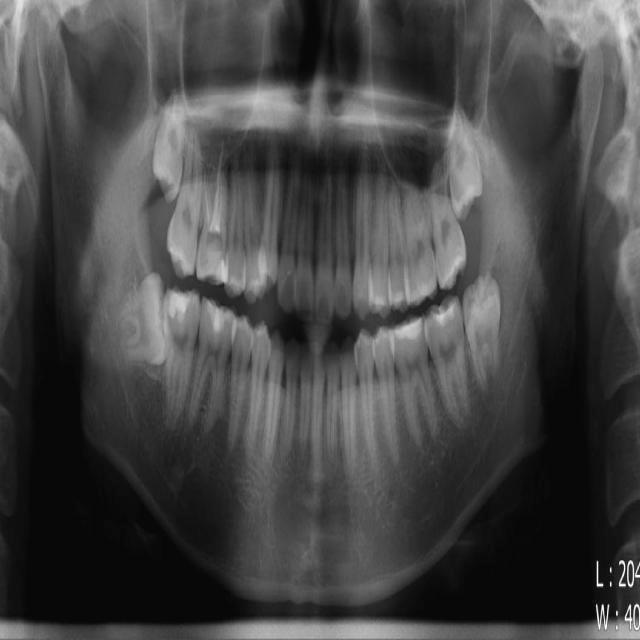Filling: (161, 289, 198, 320), (203, 301, 234, 334), (391, 318, 424, 341), (428, 302, 455, 325)
Root Canal Treatment: (211, 163, 220, 218), (215, 171, 223, 218), (204, 170, 209, 205), (209, 205, 212, 223)
impacted tooth: (111, 273, 167, 365), (461, 274, 502, 397), (445, 102, 484, 218), (152, 89, 186, 201)
